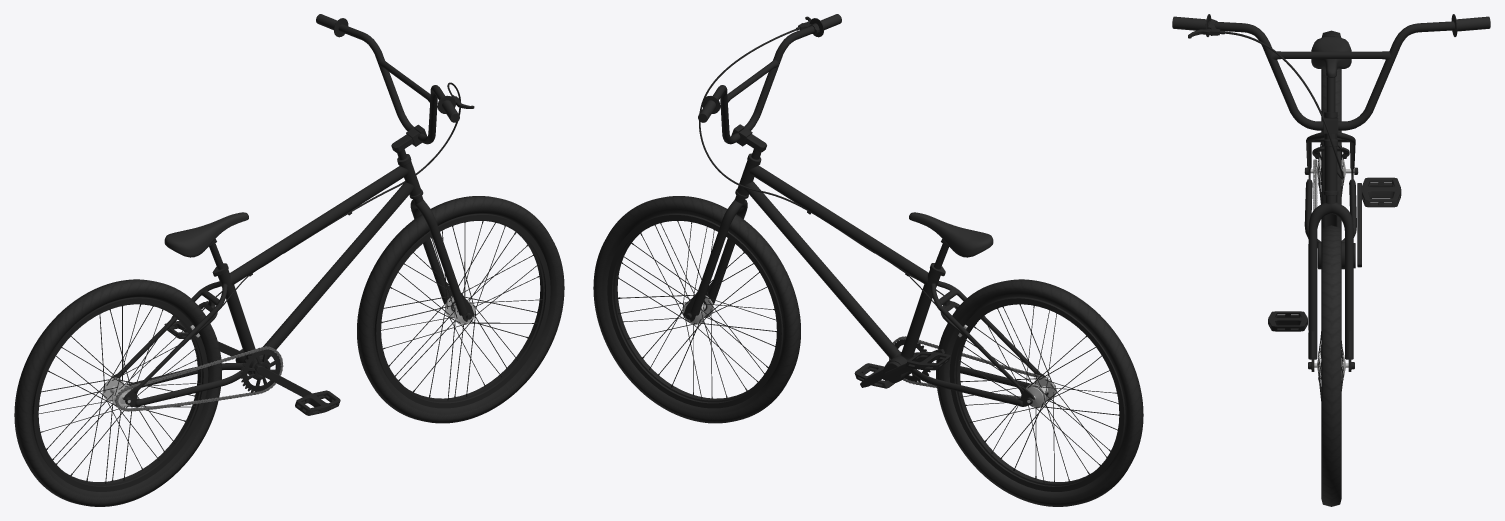
Rendered from bike3.glb.
3 views of the same model, side by side, from view 1: azimuth 30°, elevation 25°; view 2: azimuth 150°, elevation 25°; view 3: azimuth 270°, elevation 25° (orthographic). The views are drawn at different scales.
Parts seen in each view (by area): view 1: tire_001_mesh; view 2: tire_001_mesh; view 3: tire_001_mesh.
Boxes of the visible parts, x1,y1,x2,y2 form: tire_001_mesh: (14,14,564,506); tire_001_mesh: (593,14,1143,506); tire_001_mesh: (1172,14,1490,506).
Size of the model in its own units: 1.75 by 1.16 by 0.7584.
Materials: 1 (1 with a texture image).
